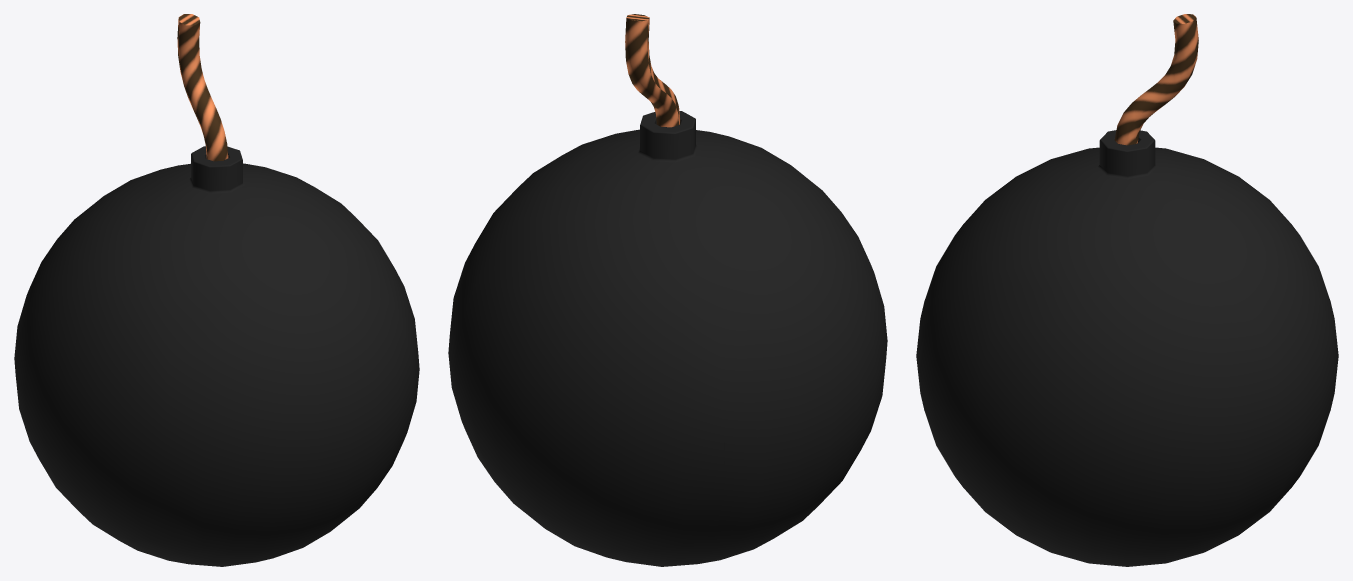
The model's file is Bomb.fbx.
3 renders of one model, left to right at view 1: azimuth 30°, elevation 25°; view 2: azimuth 150°, elevation 25°; view 3: azimuth 270°, elevation 25°, orthographic. The views are drawn at different scales.
Parts seen in each view (by area): view 1: Bomb; view 2: Bomb; view 3: Bomb.
Boxes of the visible parts, x1,y1,x2,y2 form: Bomb: [14, 14, 419, 566]; Bomb: [448, 14, 887, 566]; Bomb: [916, 14, 1338, 566].
Size of the model in its own units: 360 by 499 by 360.
